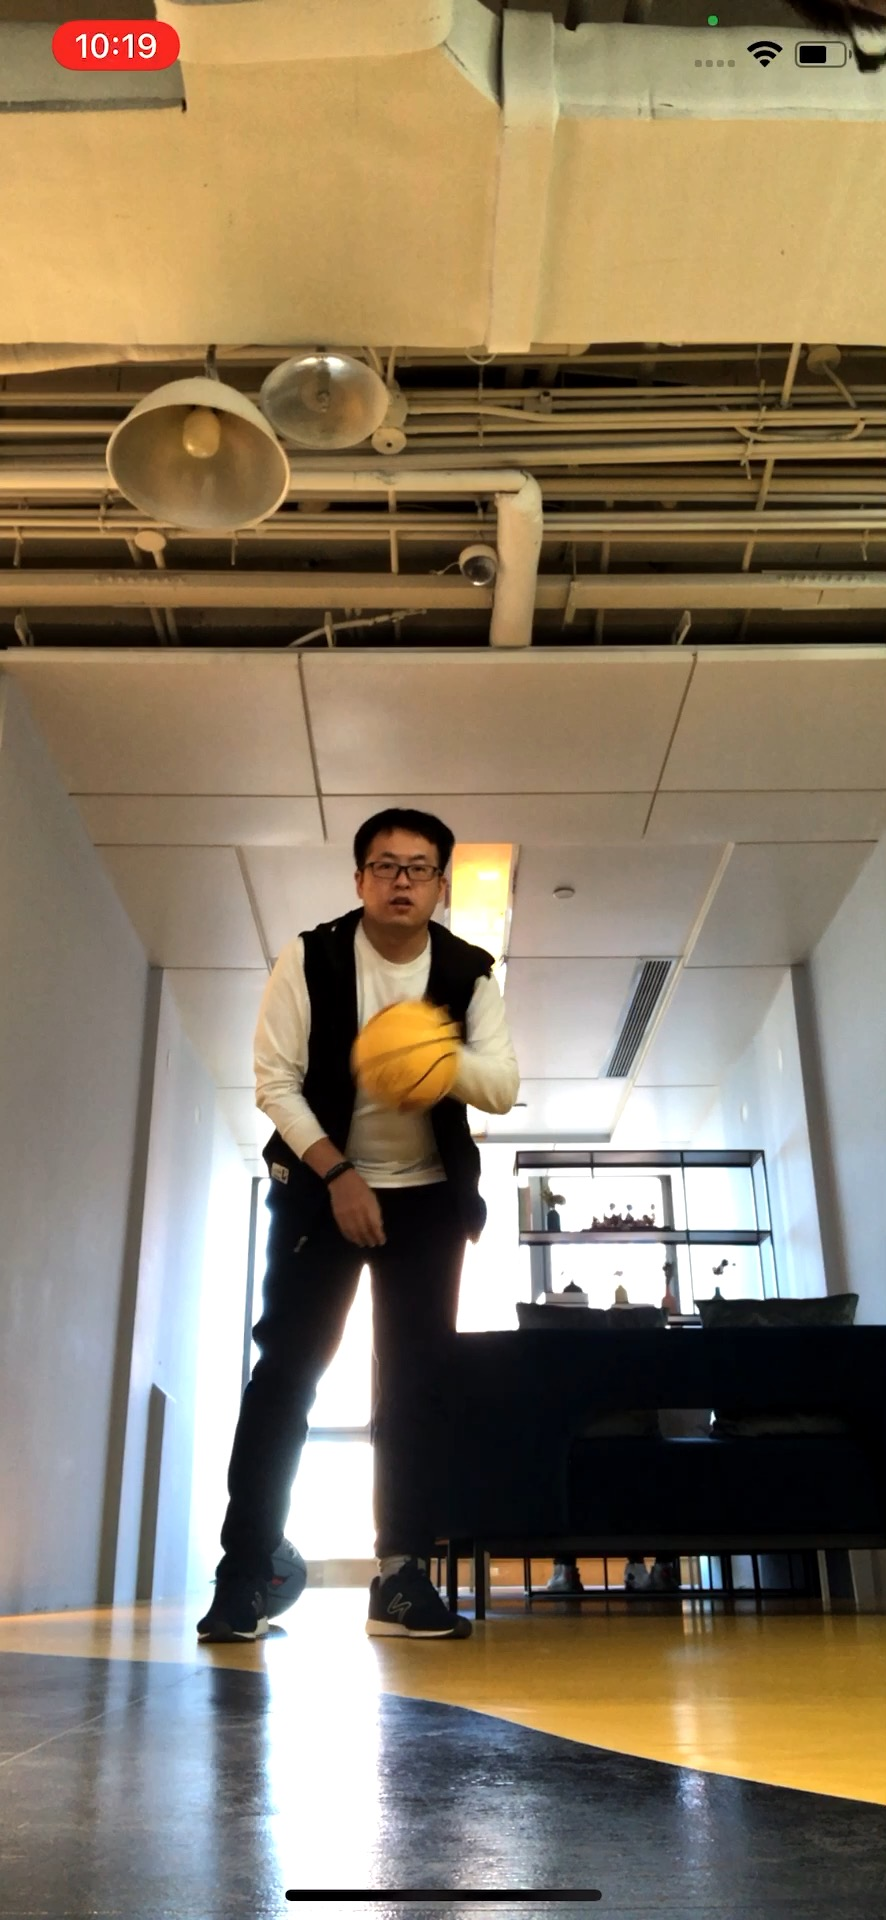ball: (355, 998, 461, 1119)
